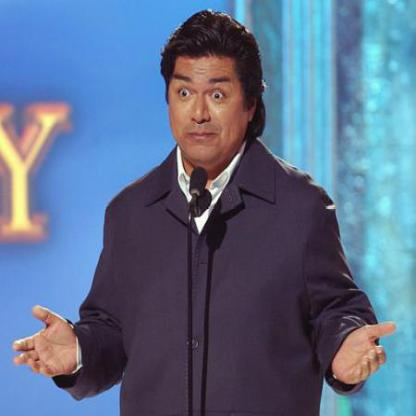face: (168, 29, 252, 166)
